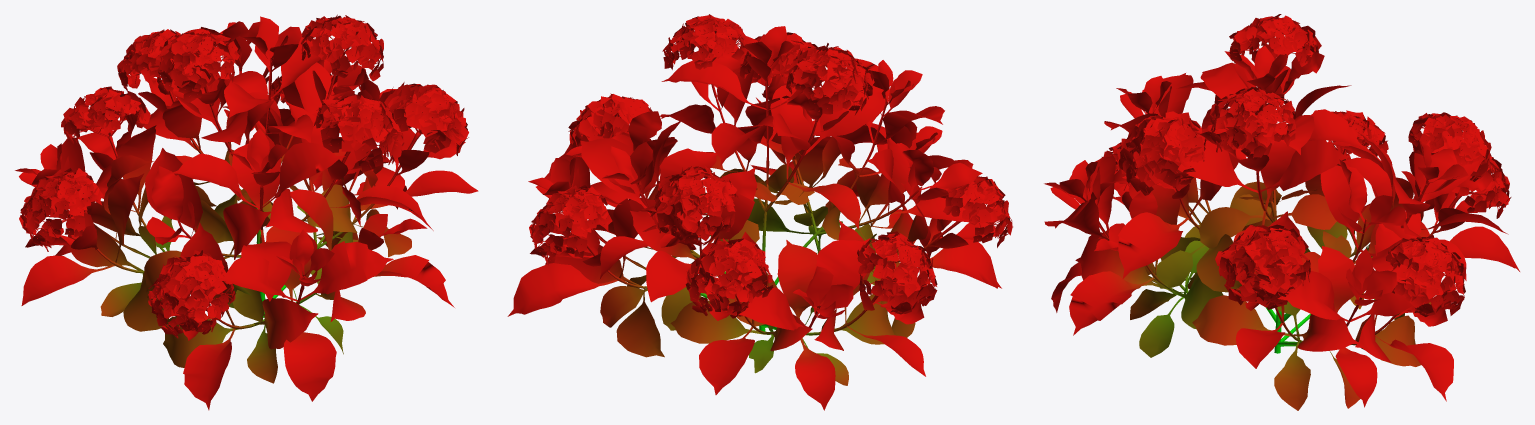
The model's file is Var1_LOD1.fbx.
The picture shows the model from 3 angles, left to right: view 1: azimuth 30°, elevation 25°; view 2: azimuth 150°, elevation 25°; view 3: azimuth 270°, elevation 25°; orthographic projection.
Parts seen in each view (by area): view 1: _dlnq_Var1_LOD1; view 2: _dlnq_Var1_LOD1; view 3: _dlnq_Var1_LOD1.
Boxes of the visible parts, bbox=[...] form: _dlnq_Var1_LOD1: bbox=[15, 14, 478, 410]; _dlnq_Var1_LOD1: bbox=[507, 14, 1012, 410]; _dlnq_Var1_LOD1: bbox=[1044, 14, 1519, 410].
Size of the model in its own units: 104 by 73.33 by 104.
